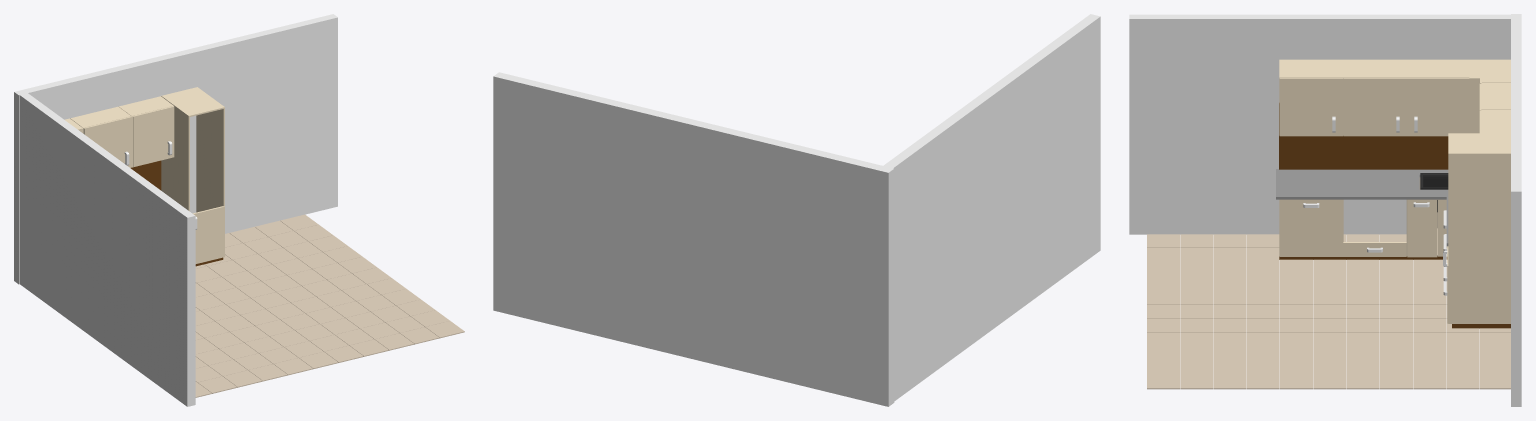
The model's file is kitchen1.gltf.
3 views of the same model, side by side, from view 1: azimuth 30°, elevation 25°; view 2: azimuth 150°, elevation 25°; view 3: azimuth 270°, elevation 25° (orthographic). The views are drawn at different scales.
Visible parts, largest first — view 1: Cube.027_58, Cube.028_59, Cube.025_56, Cube.020_51, Cube.040_6, Cube.022_53, Cube.041_1, Cube.043_5, Cube.038_21, Cube.046_9; view 2: Cube.028_59, Cube.027_58; view 3: Cube.025_56, Cube.027_58, Cube.020_51, Cube.045_8, Cube.012_35, Cube.028_59, Cube.029_62, Cube.034_63, Cube.014_45, Cube.035_66, Cube.009_32, Cube.032_3 (+10 smaller).
Part boxes in pixels (x1,y1,x2,y2): Cube.027_58: [19, 93, 195, 406]; Cube.028_59: [14, 14, 337, 284]; Cube.025_56: [195, 214, 464, 397]; Cube.020_51: [161, 87, 224, 212]; Cube.040_6: [132, 106, 174, 167]; Cube.022_53: [192, 206, 224, 263]; Cube.041_1: [83, 116, 132, 167]; Cube.043_5: [70, 106, 130, 127]; Cube.038_21: [118, 96, 173, 116]; Cube.046_9: [130, 160, 161, 190]; Cube.028_59: [493, 72, 894, 406]; Cube.027_58: [883, 14, 1100, 401]; Cube.025_56: [1147, 234, 1510, 389]; Cube.027_58: [1129, 14, 1510, 234]; Cube.020_51: [1448, 133, 1510, 323]; Cube.045_8: [1279, 103, 1448, 169]; Cube.012_35: [1276, 169, 1448, 246]; Cube.028_59: [1511, 14, 1521, 406]; Cube.029_62: [1279, 78, 1343, 136]; Cube.034_63: [1343, 78, 1407, 136]; Cube.014_45: [1279, 199, 1343, 256]; Cube.035_66: [1407, 78, 1470, 136]; Cube.009_32: [1407, 199, 1437, 257]; Cube.032_3: [1279, 59, 1343, 135].
Bounding box in the file's own units: 118 × 66.99 × 110.
